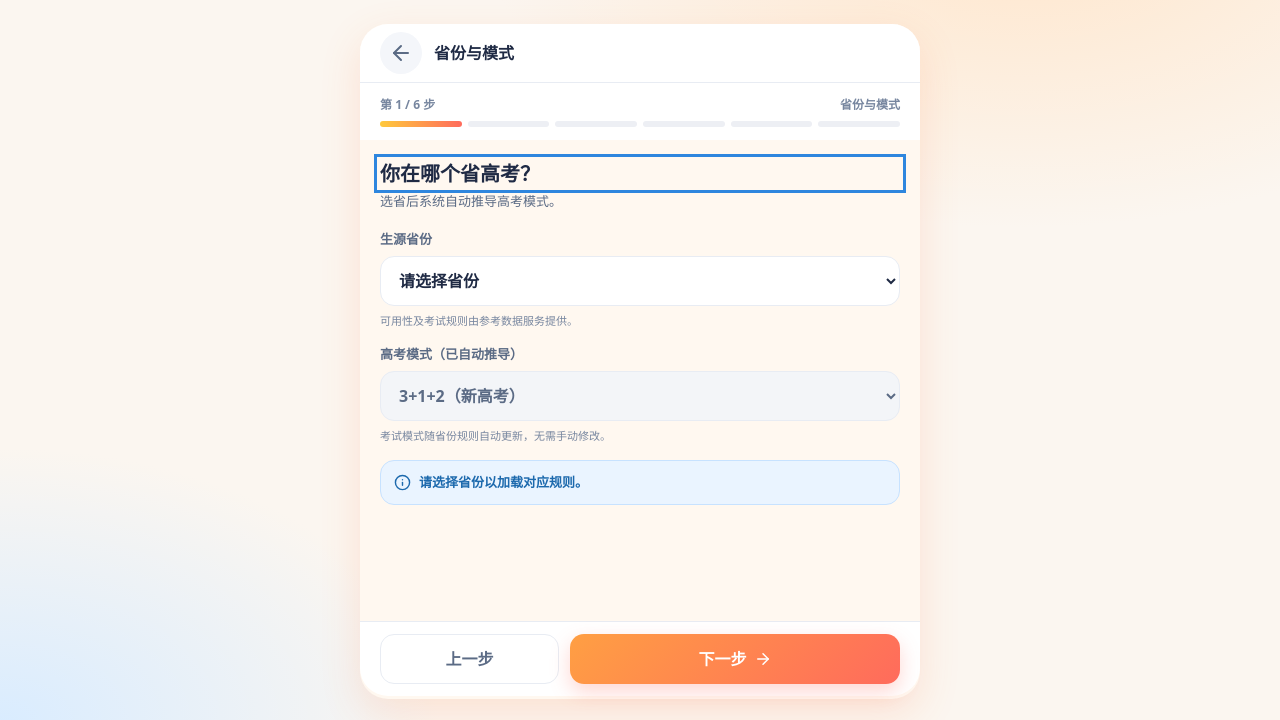
配置与引用数据驱动的向导验收 › 未就绪省份由引用数据明确拦截，不生成伪造推荐
Select "江苏省（数据建设中）" in the dropdown labelled "生源省份 可用性及考试规则由参考数据服务提供。" at (640, 281), box [380,256,900,306]
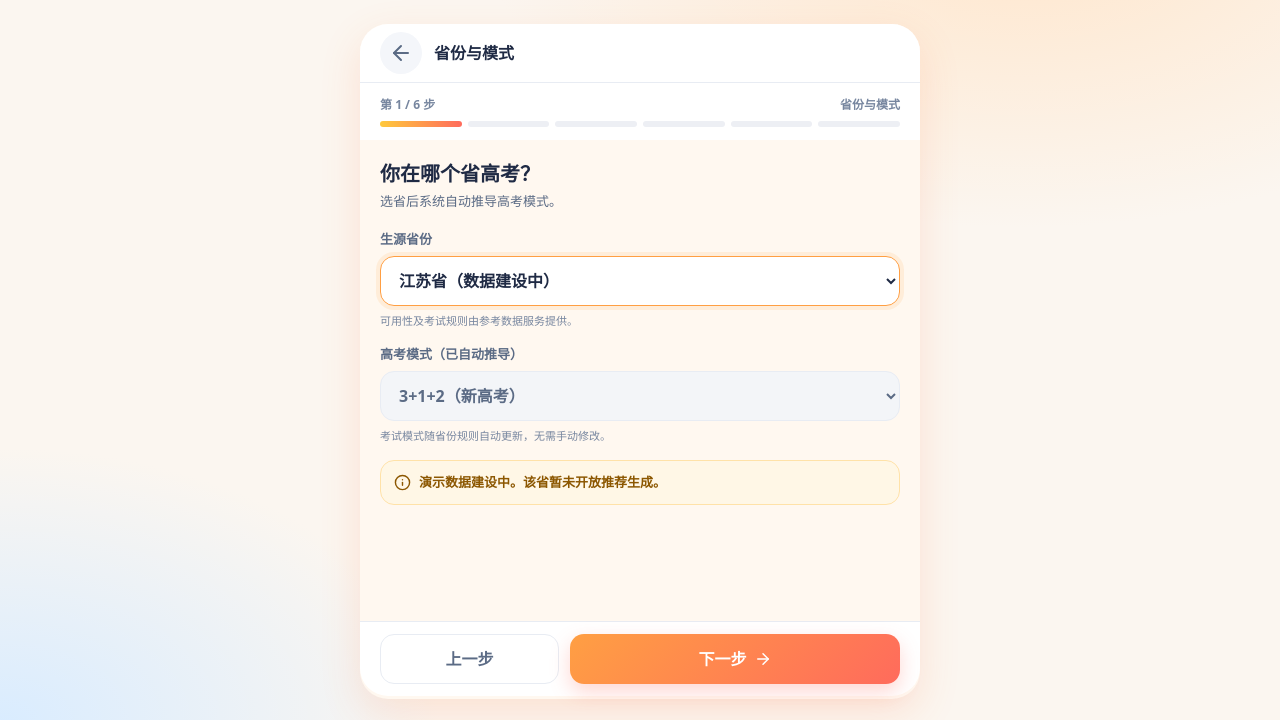
Click the button "下一步" at (735, 659), box [570,634,900,684]
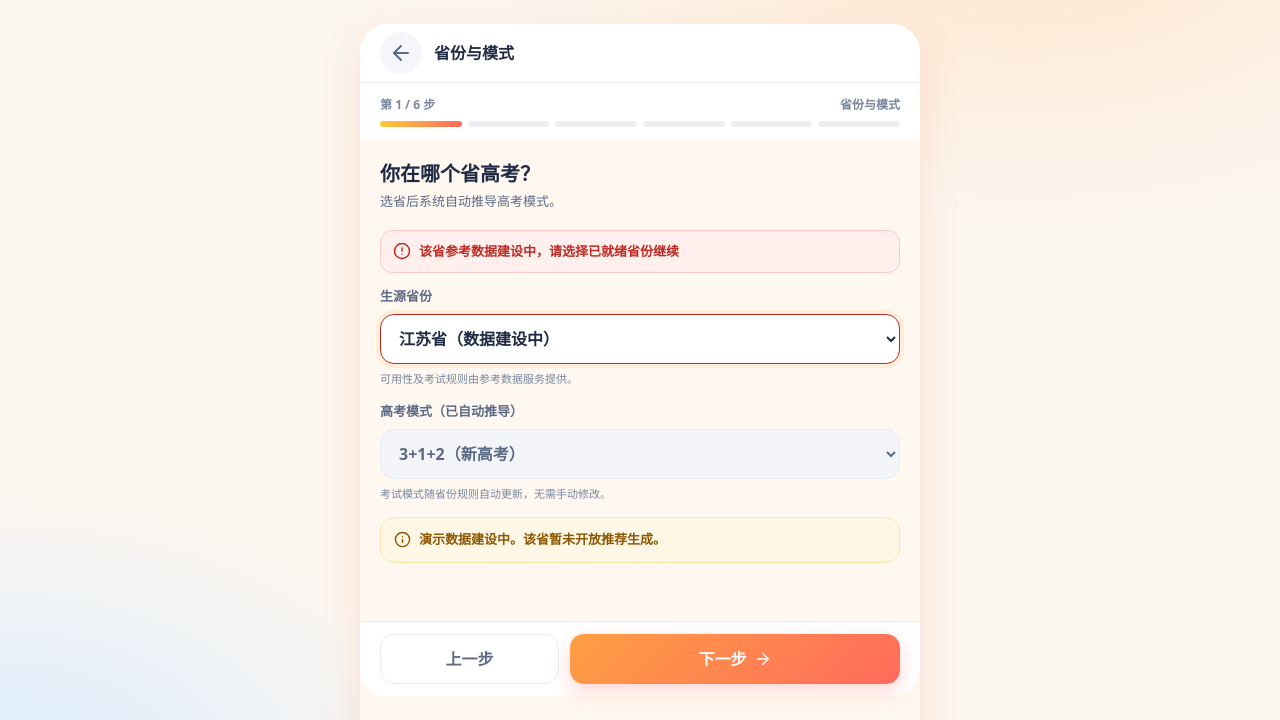
Expected: the heading "你在哪个省高考？" is shown, [380,160,540,187]
Expected: the message shows "数据建设中", [419,242,679,260]
